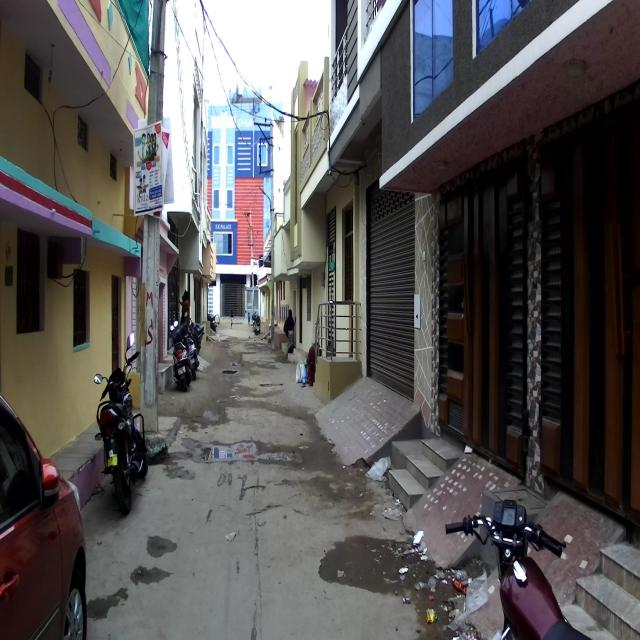motorcycle_Hero: (94, 331, 149, 518)
motorcycle_Yamaha: (446, 498, 596, 638)
scooter: (169, 321, 192, 392)
